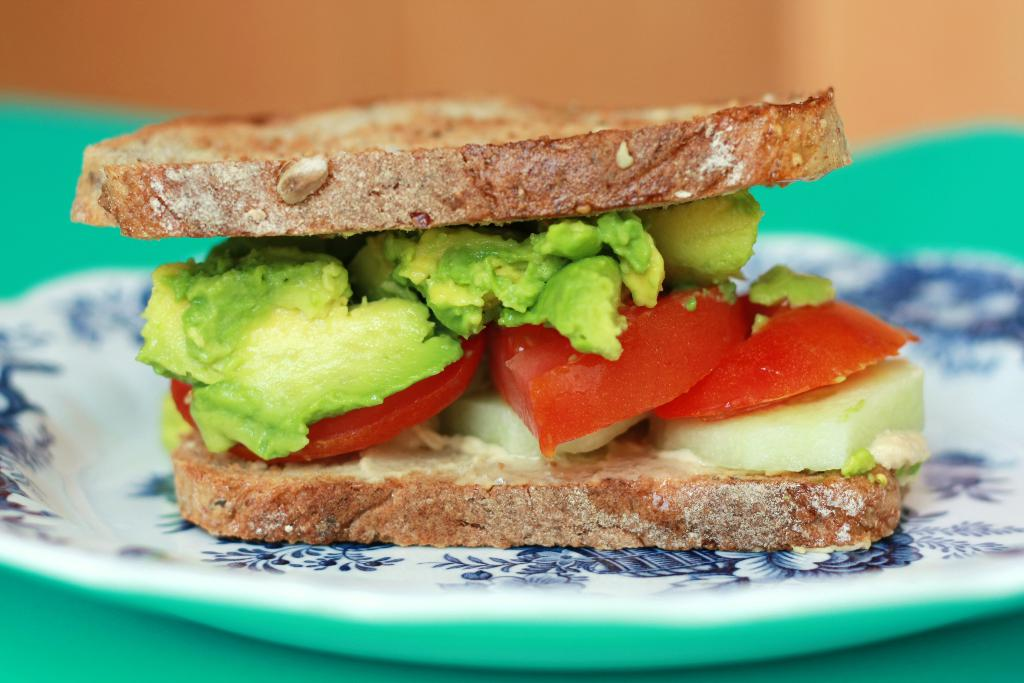sandwich: (68, 86, 922, 549)
